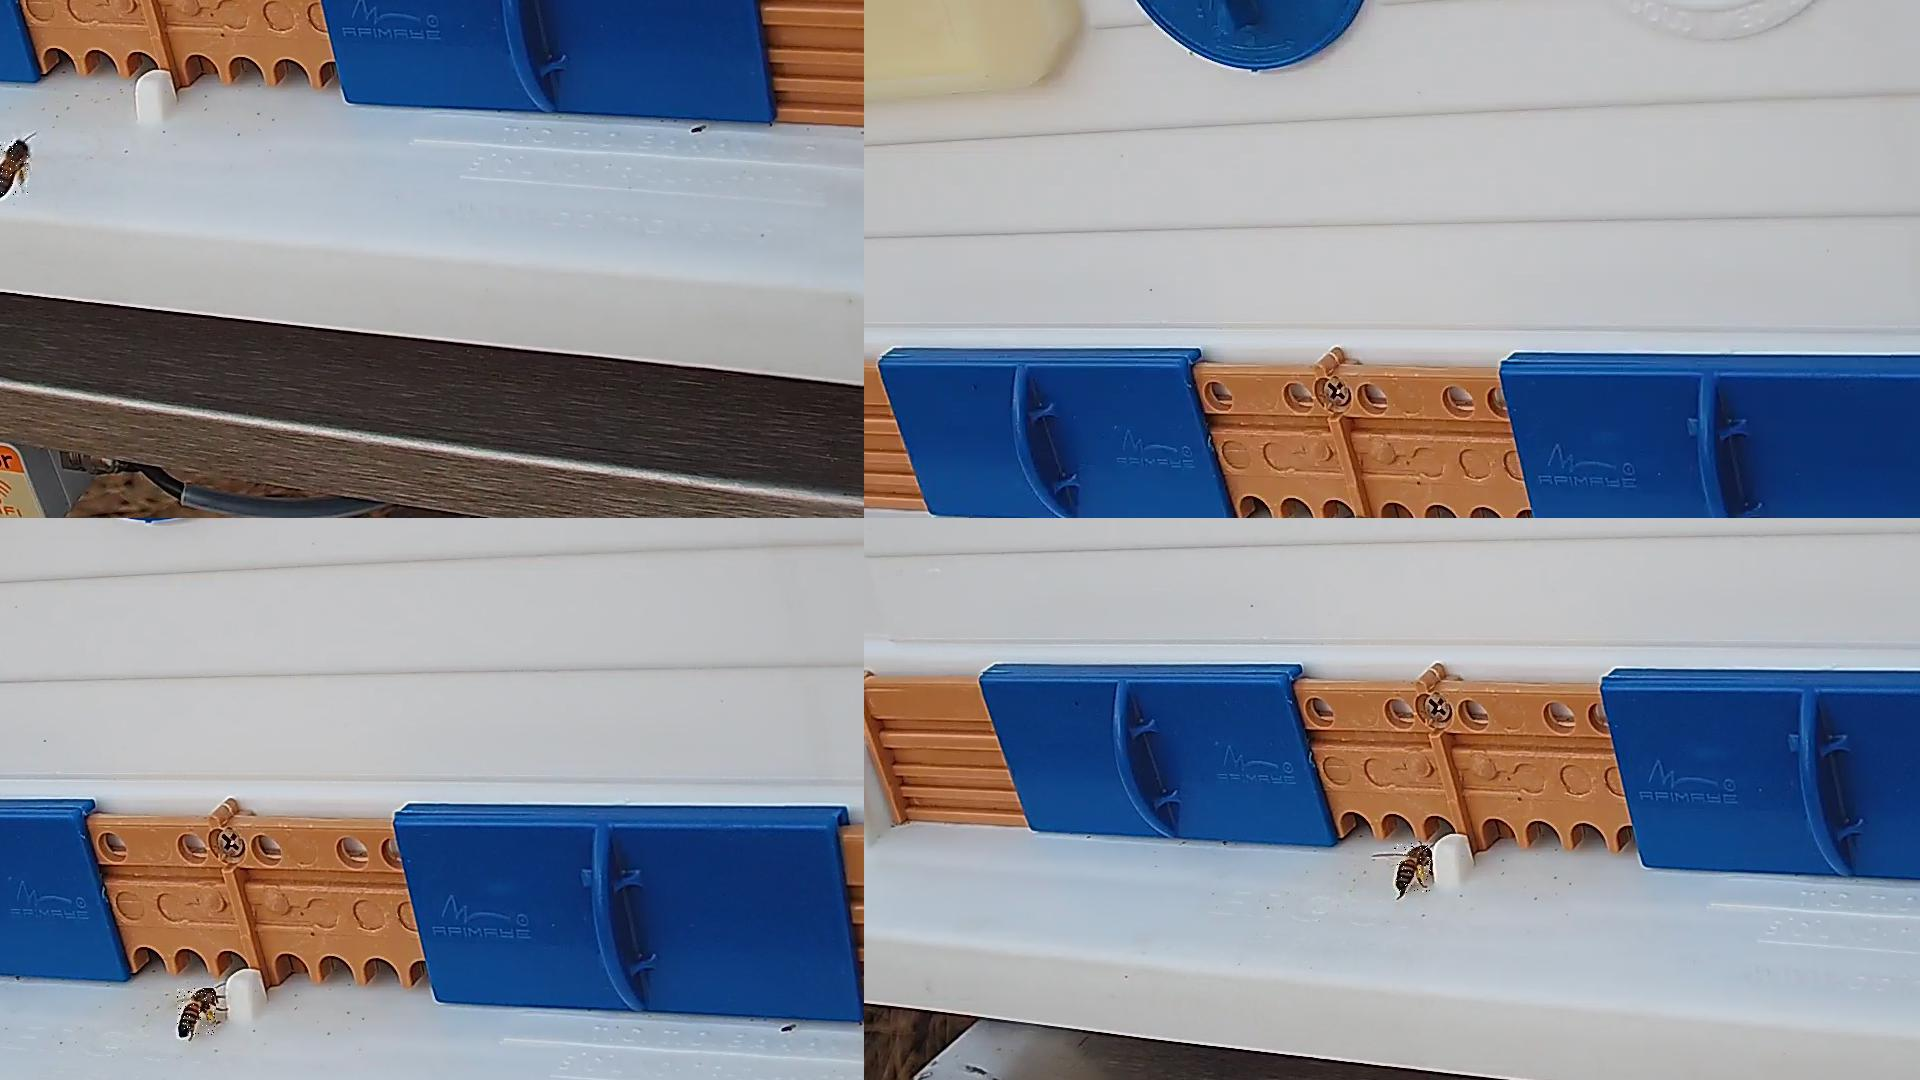pollenbee: (1394, 843, 1432, 894), (177, 989, 218, 1036), (0, 141, 30, 199)
